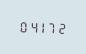four: (28, 19, 37, 33)
one: (38, 19, 47, 34)
seven: (48, 20, 57, 34)
two: (58, 20, 67, 34)
zero: (18, 19, 27, 33)
